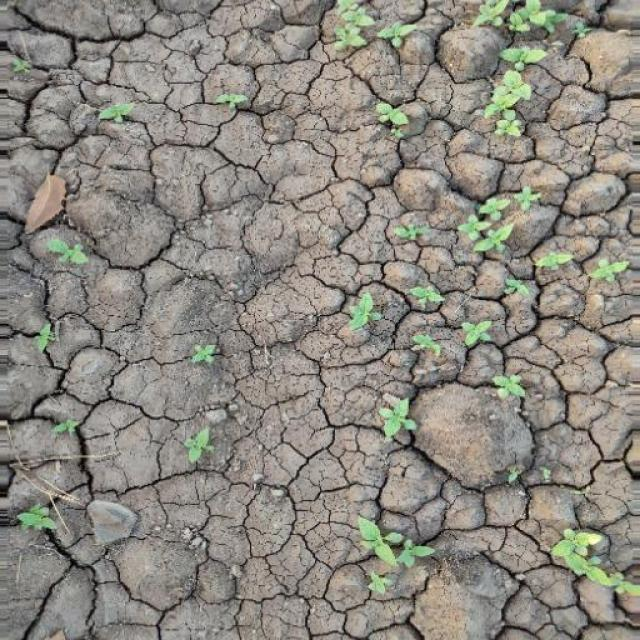crop: (341, 511, 444, 611), (540, 508, 640, 602), (452, 178, 542, 264), (479, 45, 550, 147), (532, 241, 632, 295), (372, 395, 432, 449), (370, 95, 414, 144), (343, 290, 385, 336), (44, 234, 92, 270), (175, 426, 217, 466), (94, 94, 138, 130), (488, 368, 534, 402), (405, 280, 447, 312), (188, 337, 226, 372), (457, 315, 495, 349), (405, 329, 447, 359)
